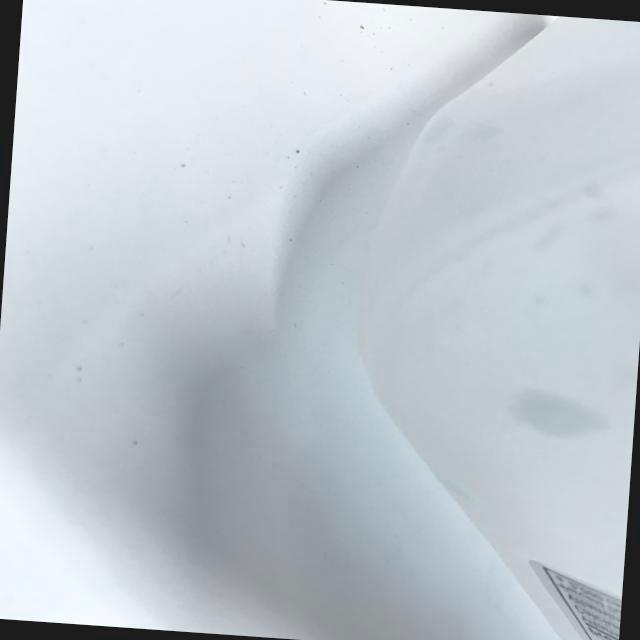plastic: (281, 0, 640, 640)
